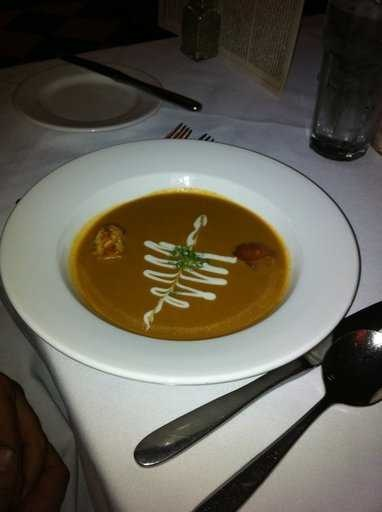soup: (45, 183, 310, 335)
